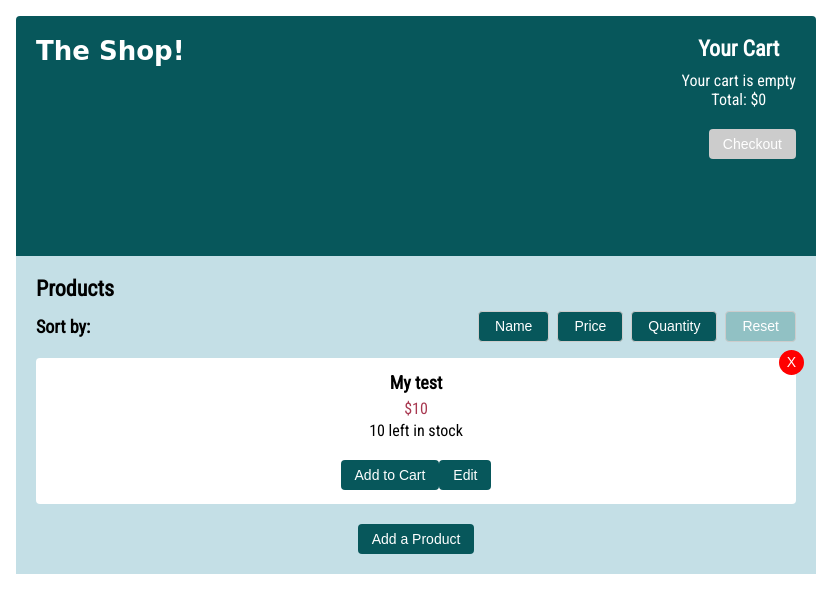
Scenario: Adding to cart creates cart Item
The width and height of the screenshot is (833, 591).
Step 1. Click the button "Add to Cart" → (390,475), box [340, 460, 439, 490]
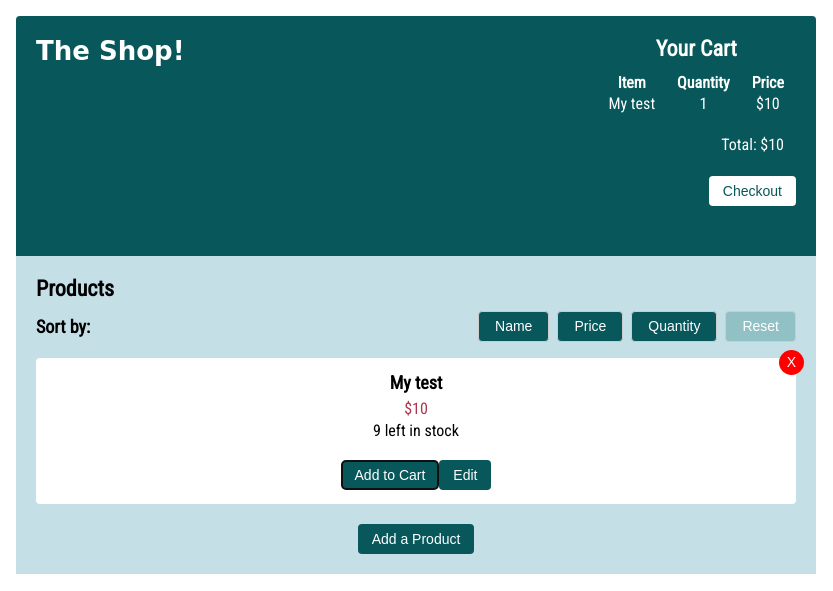
Now the row "Item Quantity Price" is shown, box [598, 73, 794, 92]
Now the row "My test 1 $10" is shown, box [598, 94, 794, 113]
Now the row "Total: $10" is shown, box [598, 115, 794, 154]
